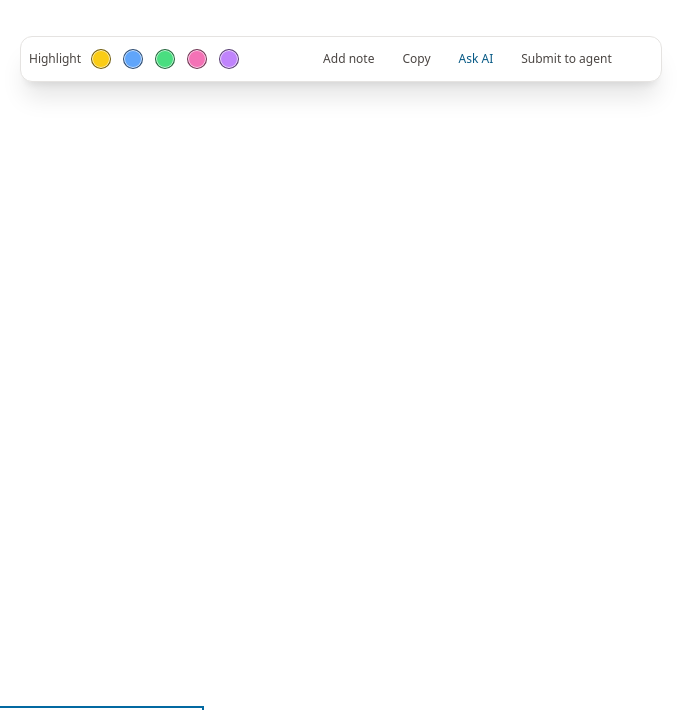
Test case: annotation renderer UX › copies selected text via interleafAPI clipboard and updates status to Copied
Click the button "Copy" at (416, 59), box [390,45,442,73]
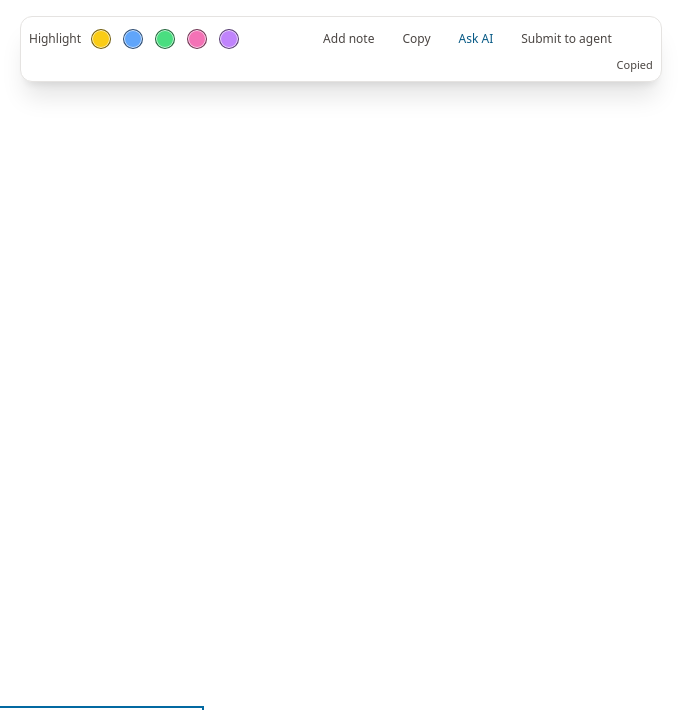
Result: the text "Copied" is shown at [616,57,653,72]
